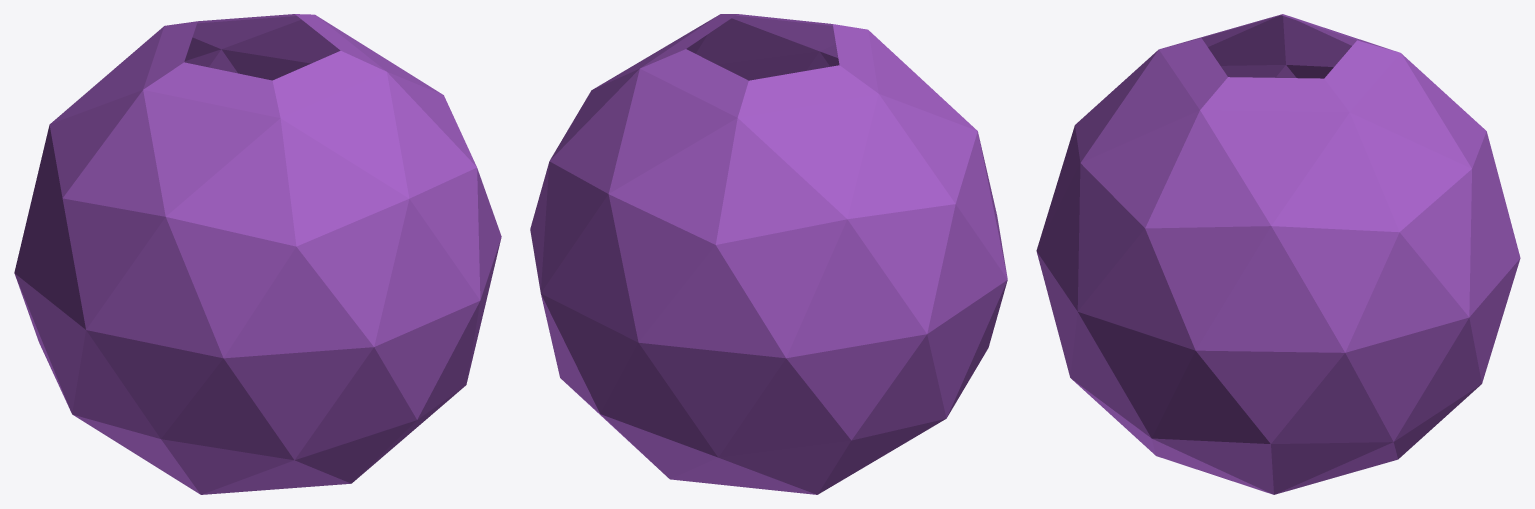
Rendered from perfumeBottle.fbx.
The picture shows the model from 3 angles, left to right: view 1: azimuth 30°, elevation 25°; view 2: azimuth 150°, elevation 25°; view 3: azimuth 270°, elevation 25°; orthographic projection. The views are drawn at different scales.
Parts seen in each view (by area): view 1: PerfumeBottle; view 2: PerfumeBottle; view 3: PerfumeBottle.
Part boxes in pixels (x1,y1,x2,y2): PerfumeBottle: [14, 14, 501, 494]; PerfumeBottle: [530, 14, 1007, 494]; PerfumeBottle: [1036, 14, 1520, 494].
Bounding box in the file's own units: 356 × 330 × 370.
